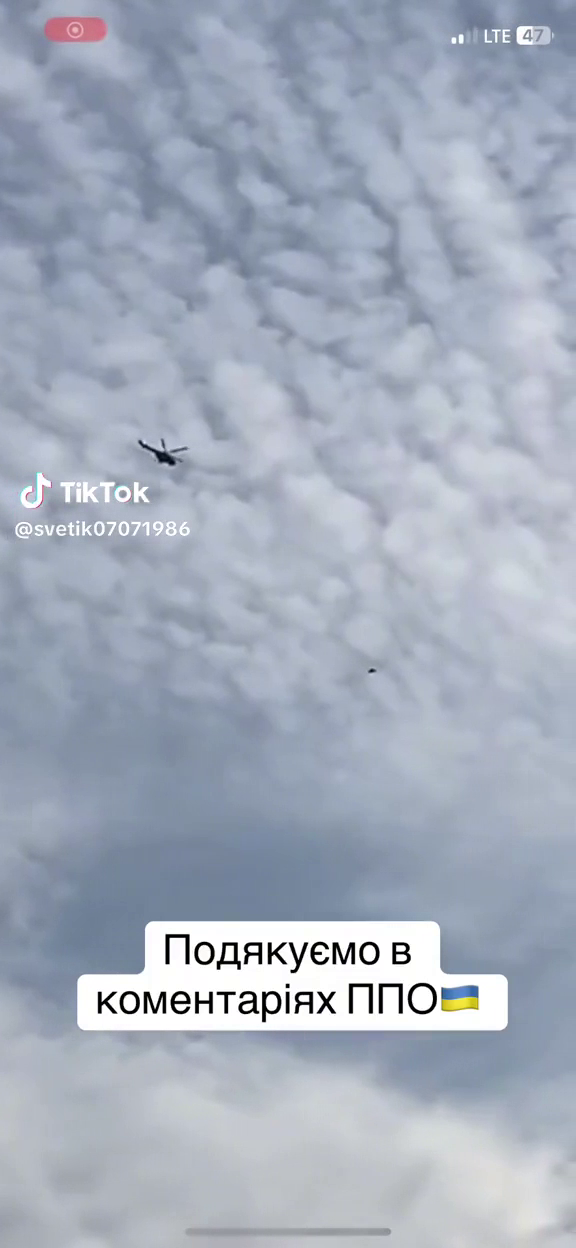not_drone: (136, 432, 192, 470)
